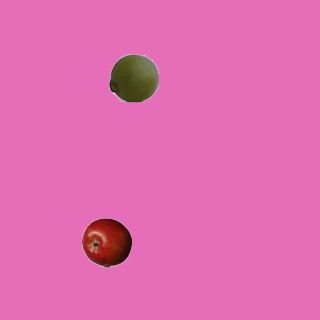Apple Braeburn: (81, 217, 131, 267)
Grape White 4: (108, 52, 158, 102)
